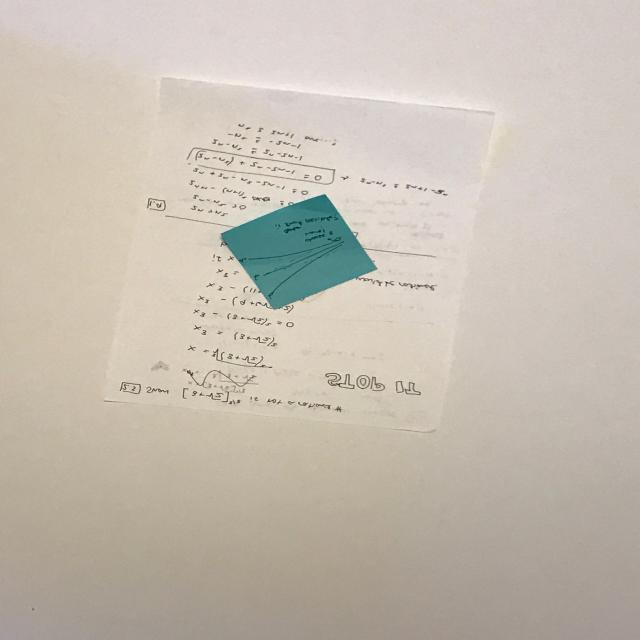paper: (5, 50, 536, 494), (194, 176, 387, 332)
